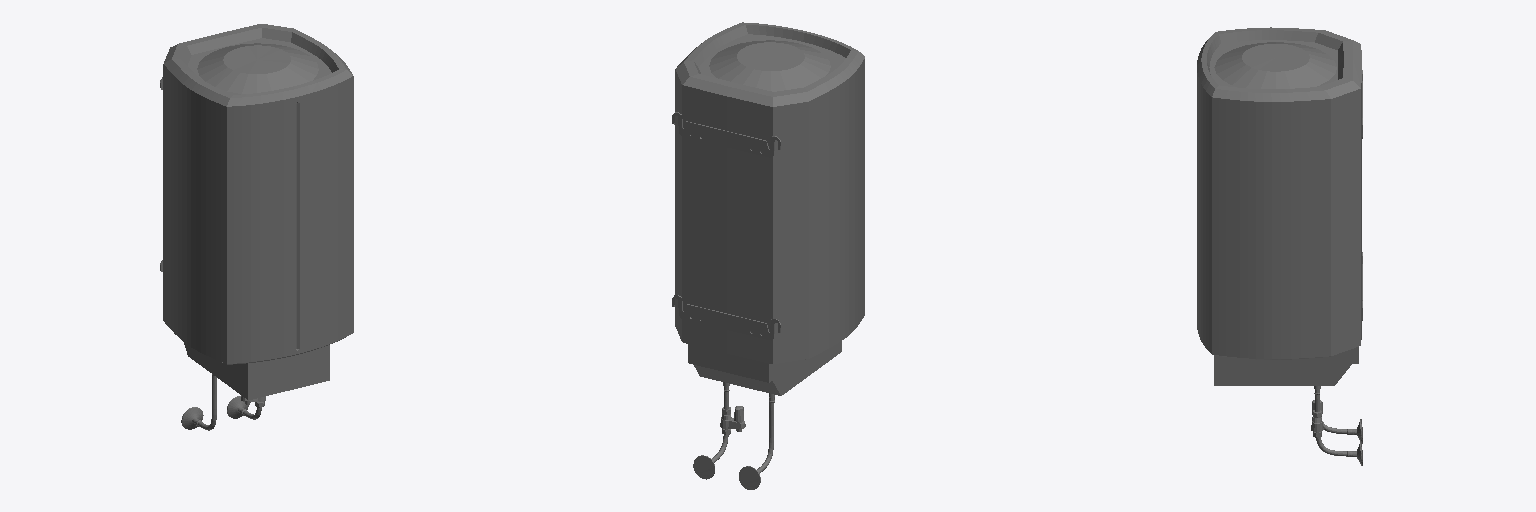
File: Boiler.obj
The picture shows the model from 3 angles: view 1: azimuth 30°, elevation 25°; view 2: azimuth 150°, elevation 25°; view 3: azimuth 270°, elevation 25°; orthographic projection.
Parts seen in each view (by area): view 1: VOD_bak; view 2: VOD_bak; view 3: VOD_bak.
Part boxes in pixels (x1,y1,x2,y2): VOD_bak: (160, 24, 353, 430); VOD_bak: (672, 22, 864, 489); VOD_bak: (1197, 27, 1362, 465).
Size of the model in its own units: 0.2803 by 0.7255 by 0.2768.